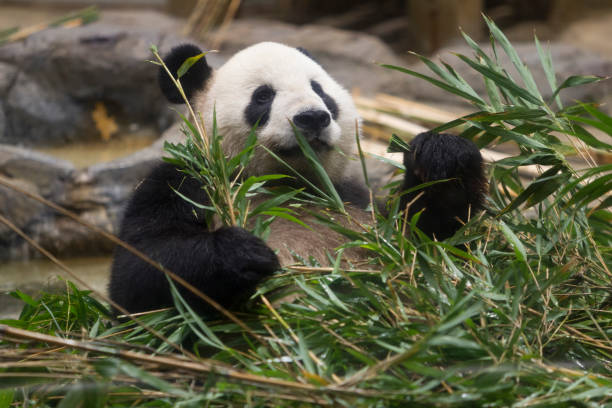panda: (133, 26, 373, 218)
